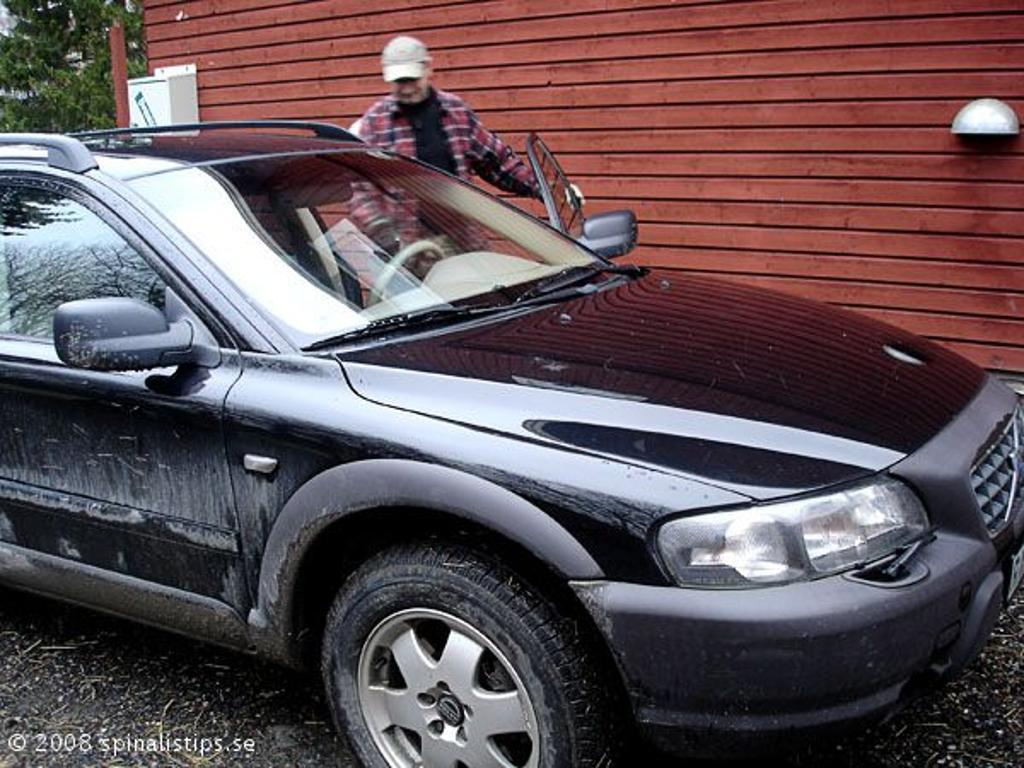face: (389, 66, 427, 103)
